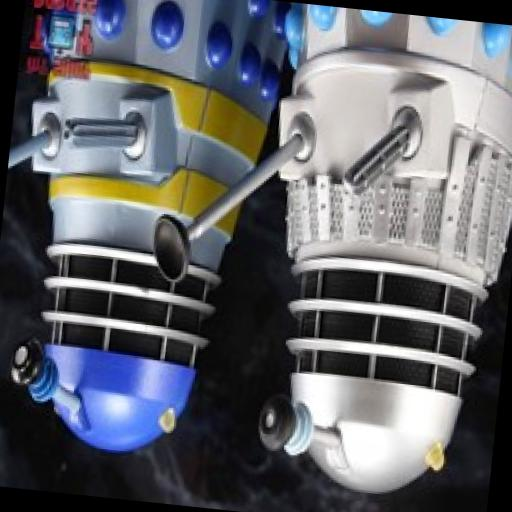dalek: (124, 0, 512, 505), (0, 0, 295, 466)
